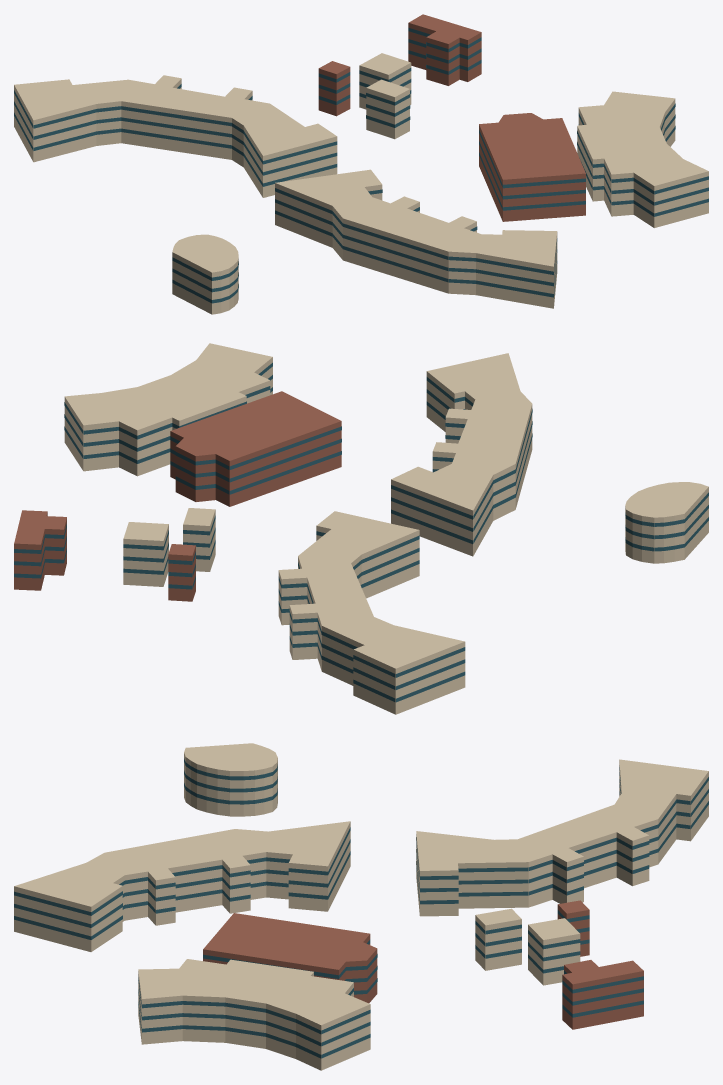
The model's file is city_7_-7.glb.
The picture shows the model from 3 angles, top to bottom: view 1: azimuth 30°, elevation 25°; view 2: azimuth 150°, elevation 25°; view 3: azimuth 270°, elevation 25°; orthographic projection. The views are drawn at different scales.
Parts seen in each view (by area): view 1: city_7_-7; view 2: city_7_-7; view 3: city_7_-7.
Boxes of the visible parts, x1,y1,x2,y2 form: city_7_-7: [14, 14, 708, 314]; city_7_-7: [14, 343, 708, 714]; city_7_-7: [14, 743, 708, 1070].
Size of the model in its own units: 200 by 15 by 208.
